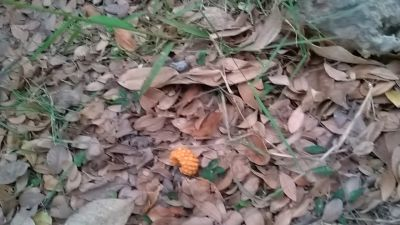eggs: (171, 148, 200, 177)
